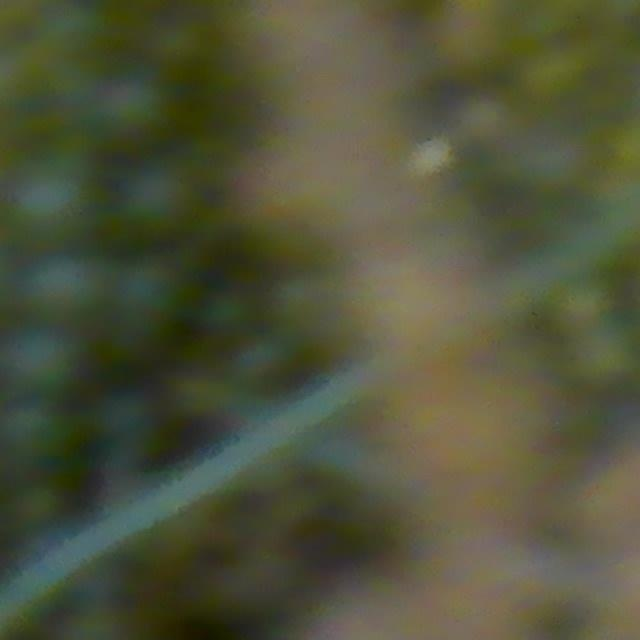SeaGrape: (14, 166, 99, 253), (117, 156, 198, 236), (19, 251, 106, 325), (0, 332, 93, 399), (108, 256, 184, 333), (0, 395, 71, 467), (100, 77, 166, 139)
